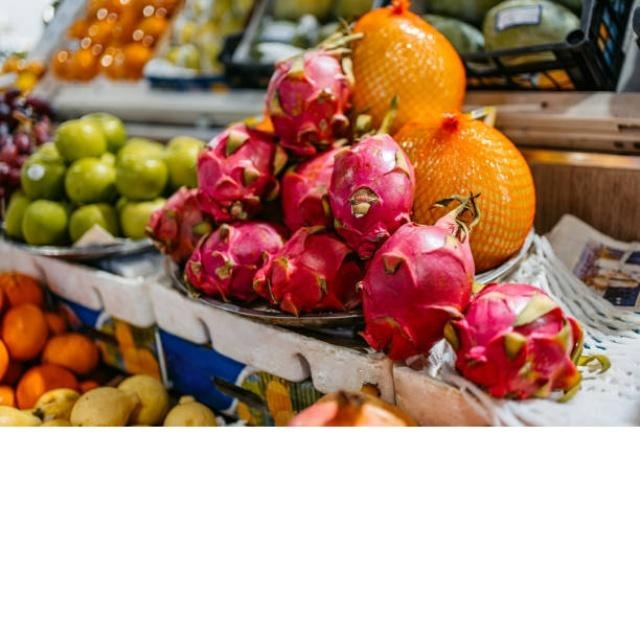thanh_long: (454, 266, 590, 407), (353, 221, 466, 368), (164, 205, 280, 306), (260, 46, 361, 160), (332, 136, 436, 232), (268, 232, 378, 317), (196, 121, 292, 209)
